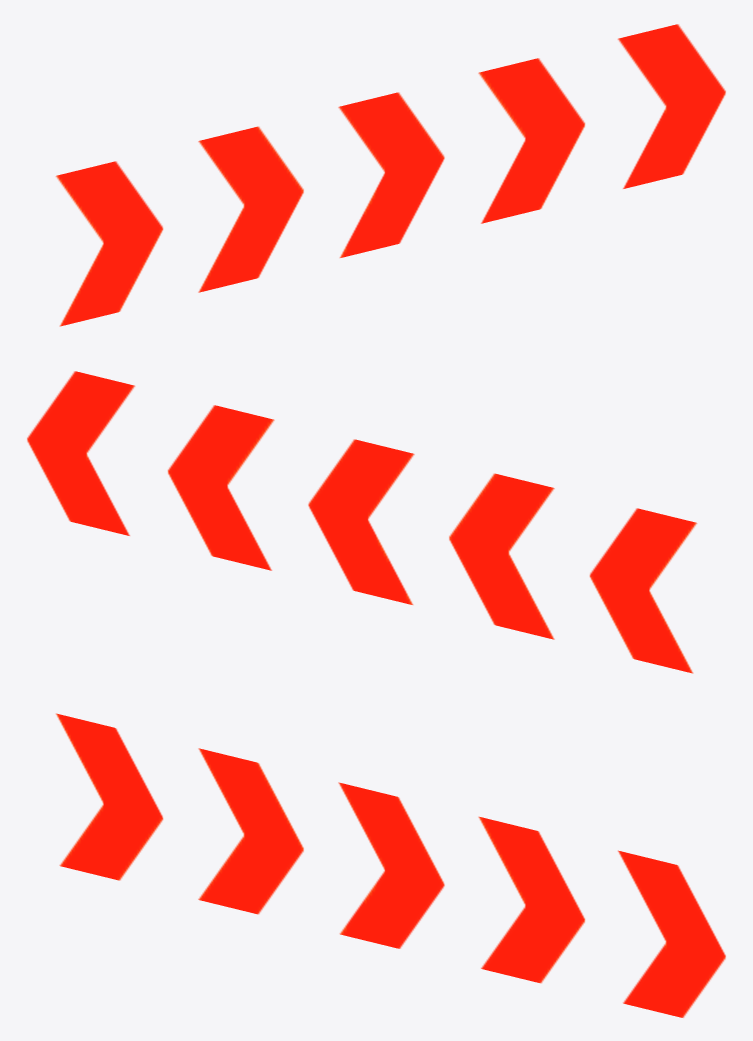
File: rr_red_arrow.glb
3 views of the same model, one above another, from view 1: azimuth 30°, elevation 25°; view 2: azimuth 150°, elevation 25°; view 3: azimuth 330°, elevation 25° (orthographic).
Visible parts, largest first — view 1: Emissive Arrow Sign_0_1; view 2: Emissive Arrow Sign_0_1; view 3: Emissive Arrow Sign_0_1.
Boxes of the visible parts, left/top/right/bottom form: Emissive Arrow Sign_0_1: left=55, top=24, right=725, bottom=326; Emissive Arrow Sign_0_1: left=27, top=371, right=697, bottom=673; Emissive Arrow Sign_0_1: left=56, top=713, right=725, bottom=1017.
Bounding box in the file's own units: 10 × 2 × 1.15e-06.
Materials: 1 (1 with a texture image).
